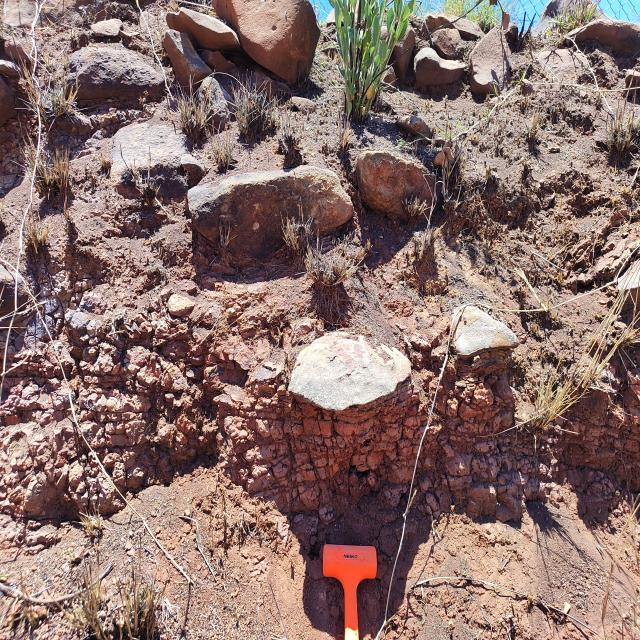Orange_hammer: (322, 543, 377, 639)
